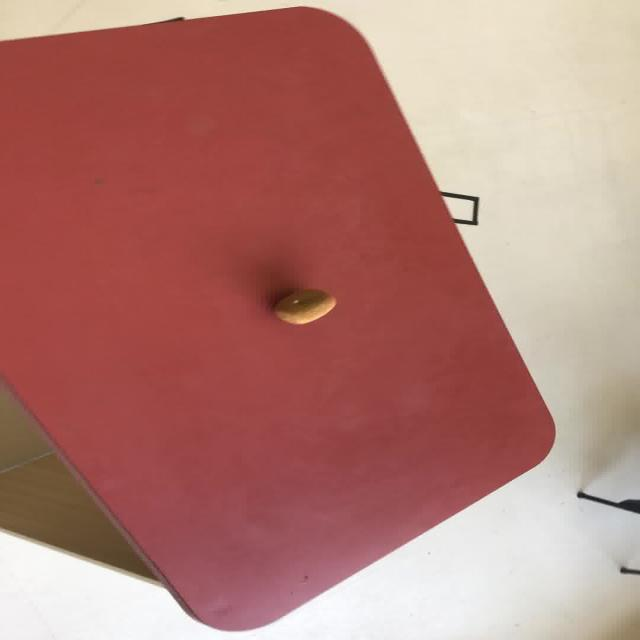kiwi: (1, 3, 557, 631), (270, 288, 336, 325)
